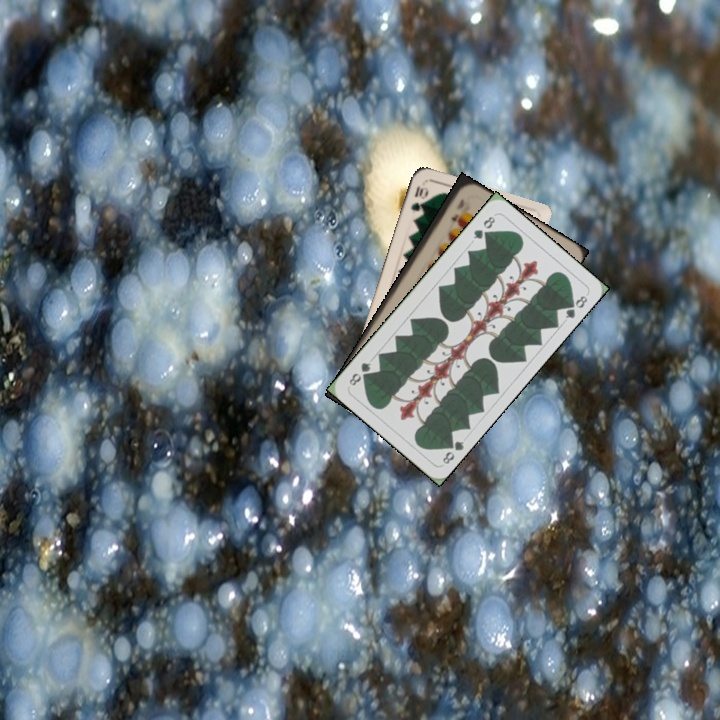E10: (447, 195, 467, 224)
G10: (407, 181, 430, 214)
G8: (438, 435, 467, 467), (469, 212, 498, 242)
